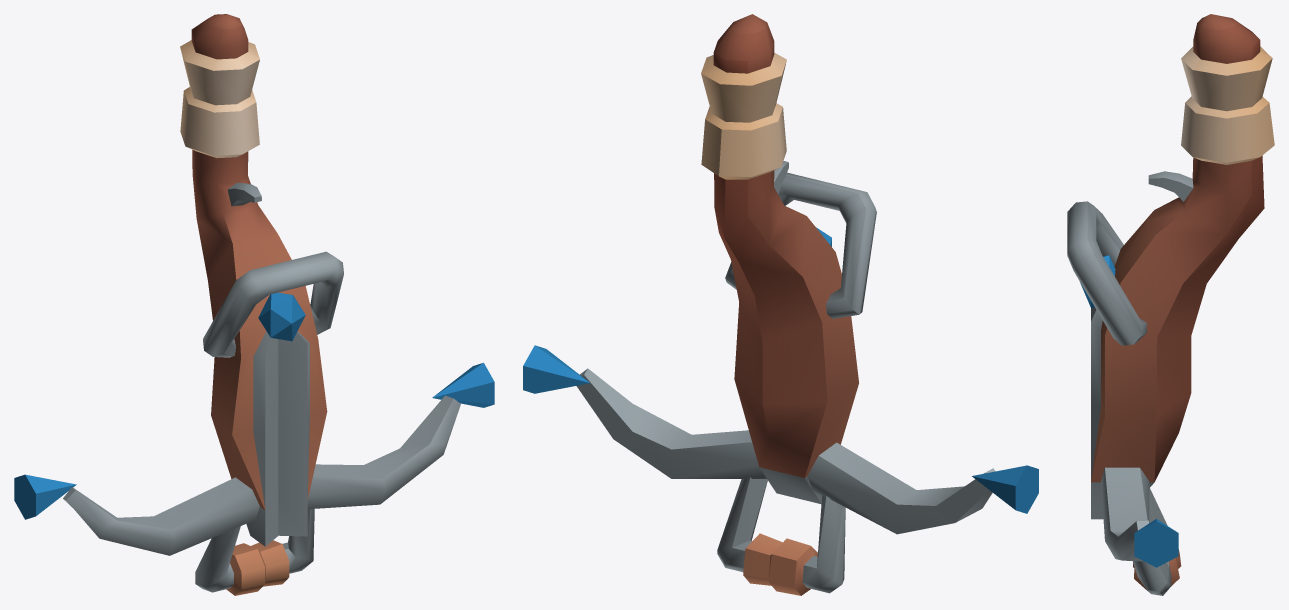
Rendered from rogue_sword_t2.glb.
The picture shows the model from 3 angles, left to right: view 1: azimuth 30°, elevation 25°; view 2: azimuth 150°, elevation 25°; view 3: azimuth 270°, elevation 25°; orthographic projection. The views are drawn at different scales.
Visible parts, largest first — view 1: rogue_sword_t2__handslot_r; view 2: rogue_sword_t2__handslot_r; view 3: rogue_sword_t2__handslot_r.
Part boxes in pixels (x1,y1,x2,y2): rogue_sword_t2__handslot_r: (14, 14, 494, 595); rogue_sword_t2__handslot_r: (523, 14, 1038, 595); rogue_sword_t2__handslot_r: (1067, 14, 1274, 595).
Size of the model in its own units: 1.06 by 1.22 by 0.4059.
2 materials, 2 textured.
